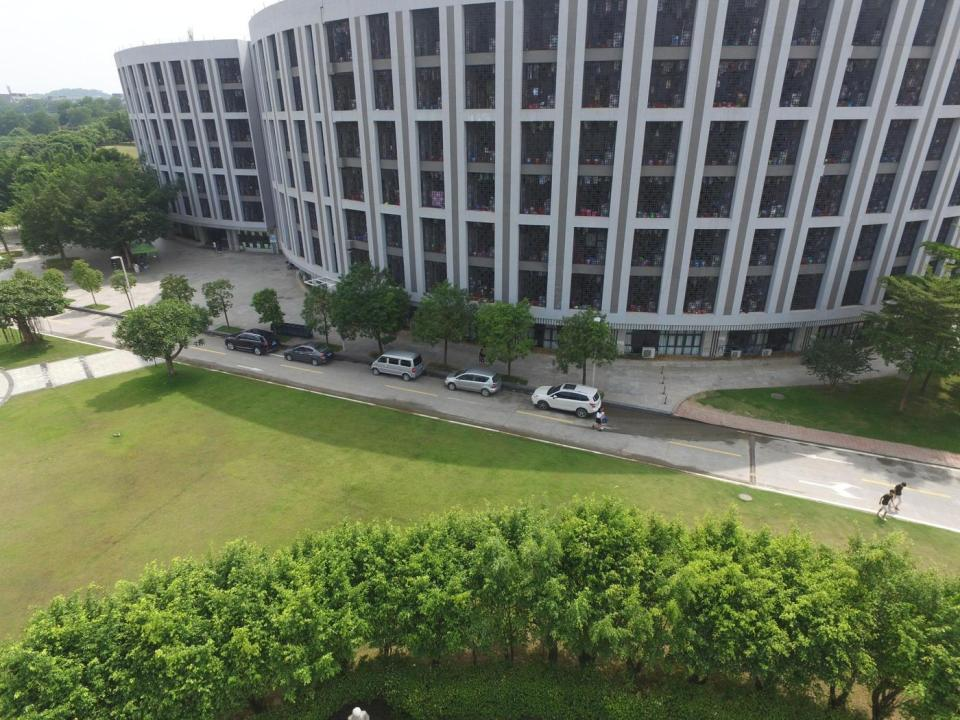car: (530, 380, 605, 417), (444, 366, 501, 398), (225, 327, 280, 356), (282, 342, 334, 366)
van: (366, 350, 424, 380)
